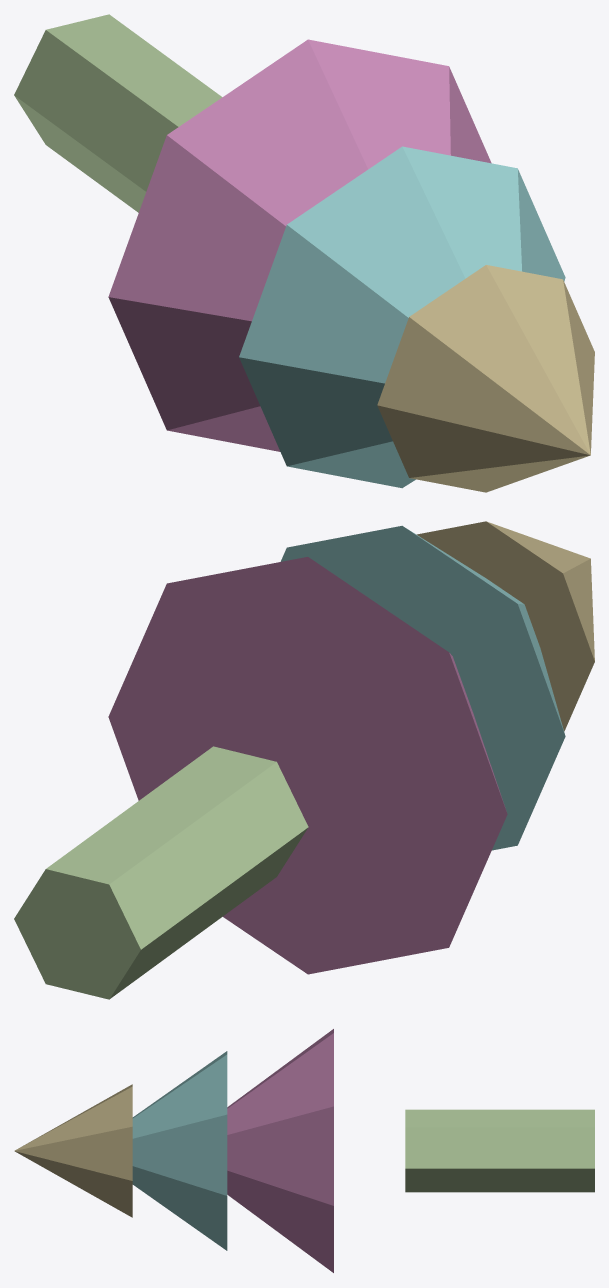
3 views of the same model, one above another, from view 1: azimuth 30°, elevation 25°; view 2: azimuth 150°, elevation 25°; view 3: azimuth 270°, elevation 25° (orthographic). The views are drawn at different scales.
Parts seen in each view (by area): view 1: part1, part2, part3, part0; view 2: part1, part0, part2, part3; view 3: part1, part0, part2, part3.
Part boxes in pixels (<box>): part1: <box>108,39,491,451</box>; part2: <box>239,146,565,488</box>; part3: <box>377,265,594,492</box>; part0: <box>14,14,222,212</box>; part1: <box>108,557,507,974</box>; part0: <box>14,746,308,999</box>; part2: <box>280,525,565,850</box>; part3: <box>417,521,594,731</box>; part1: <box>227,1029,333,1272</box>; part0: <box>405,1109,594,1192</box>; part2: <box>132,1051,227,1250</box>; part3: <box>14,1084,132,1217</box>.
Size of the model in its own units: 2.2 by 2.2 by 4.9.
